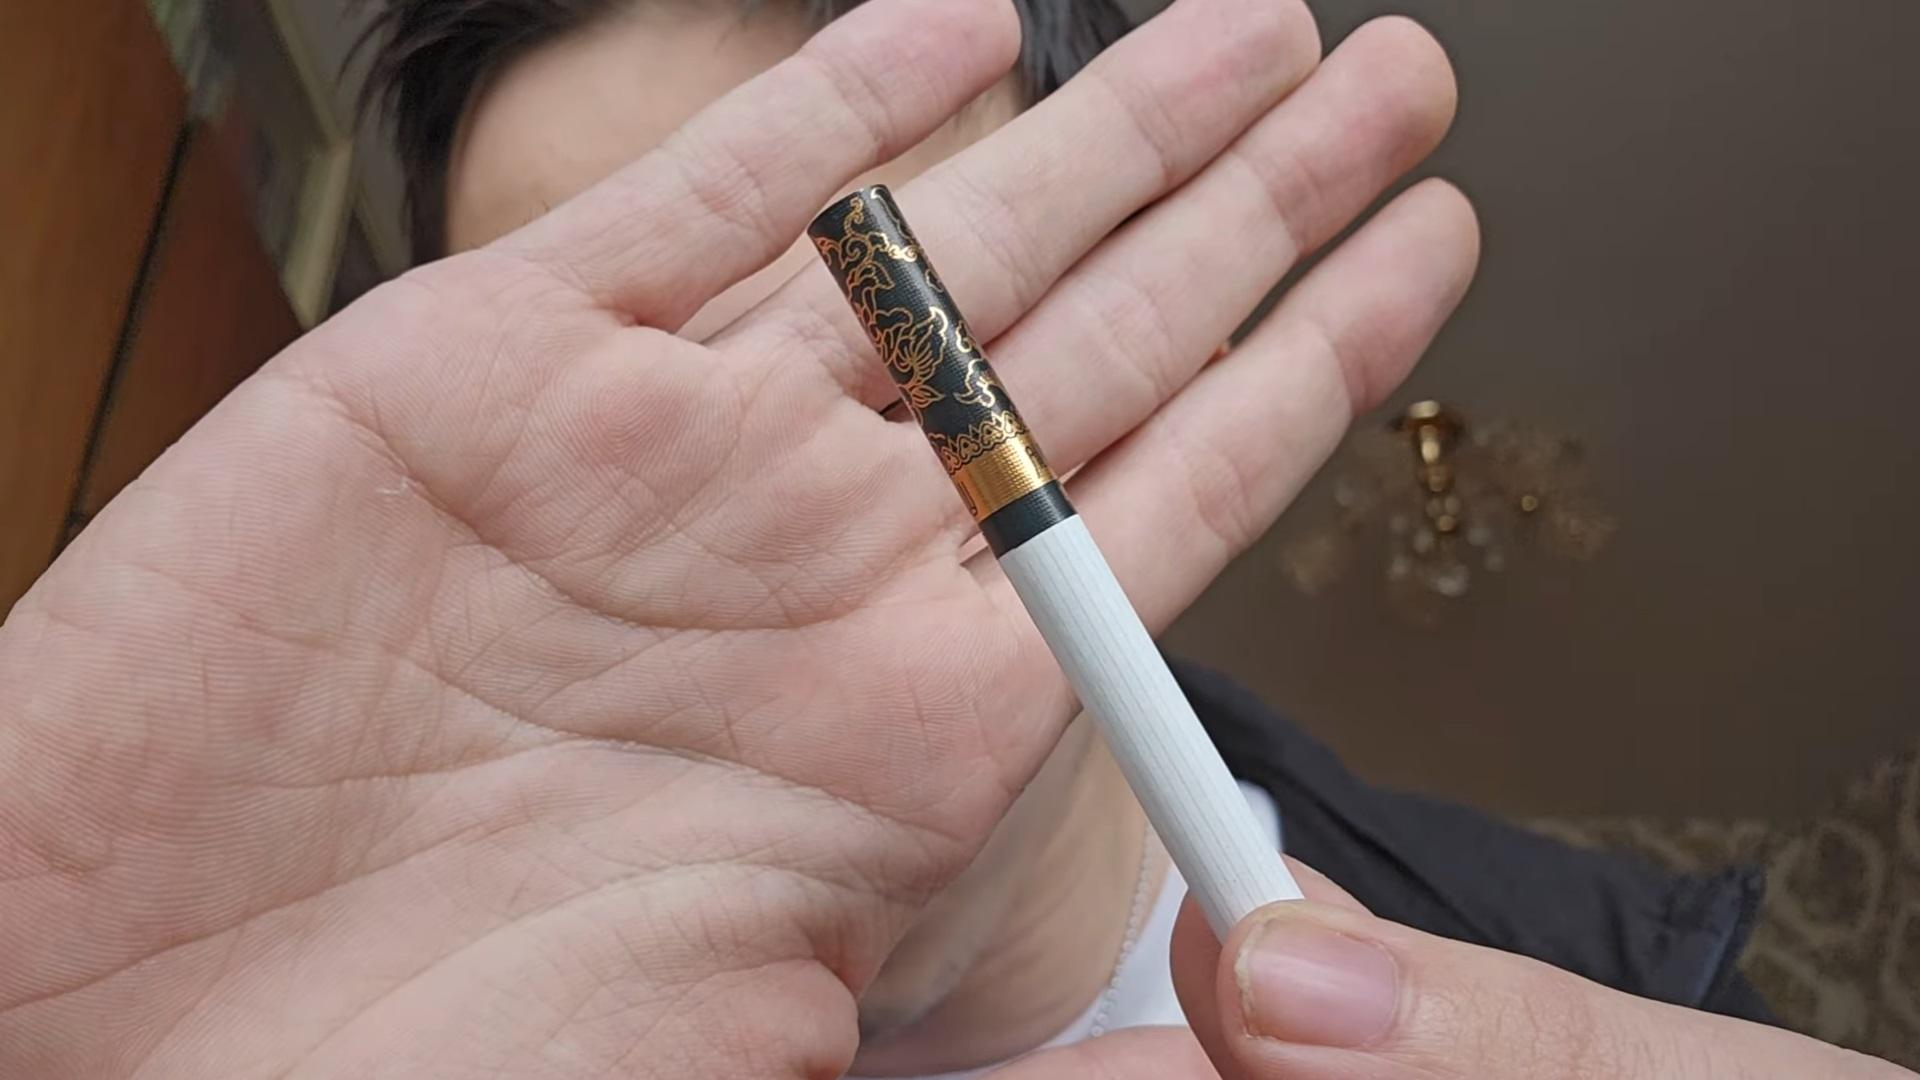cigarette: (803, 186, 1302, 939)
